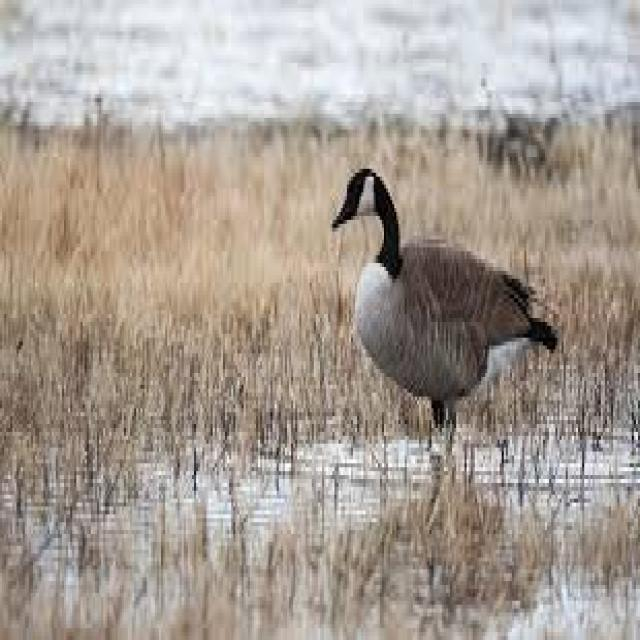Goose: (327, 166, 556, 470)
